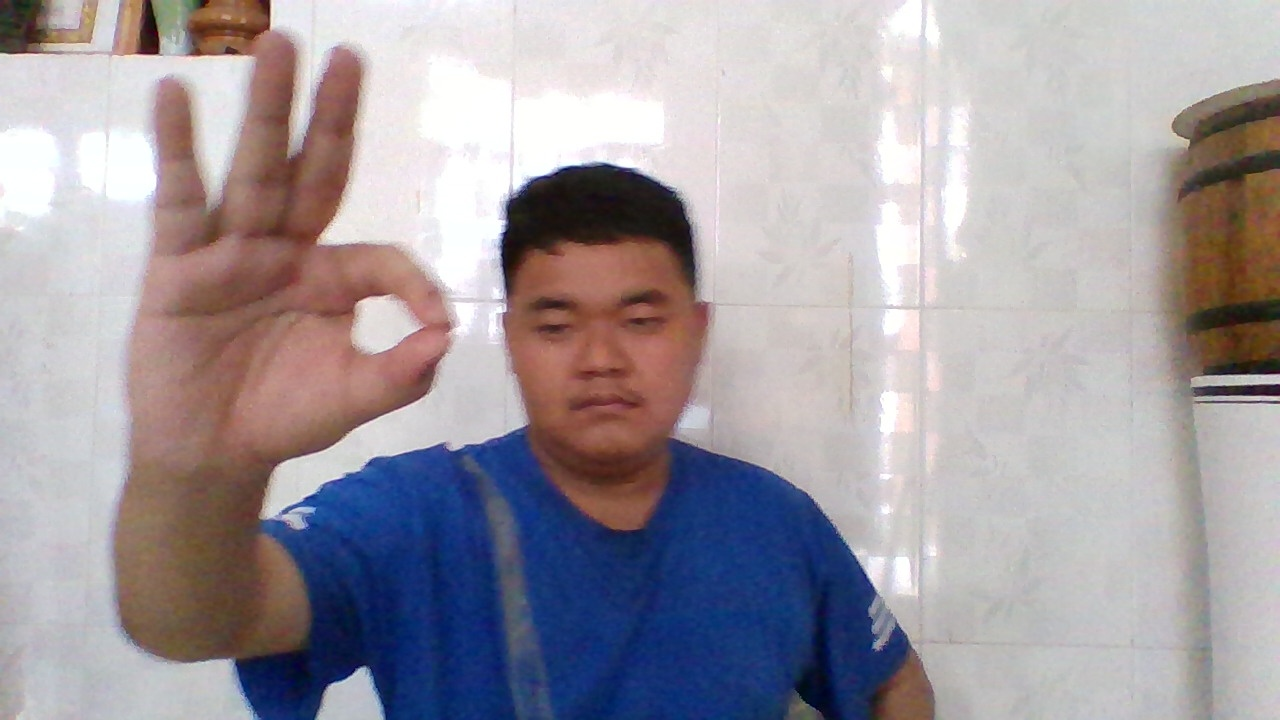T: (154, 37, 455, 479)
